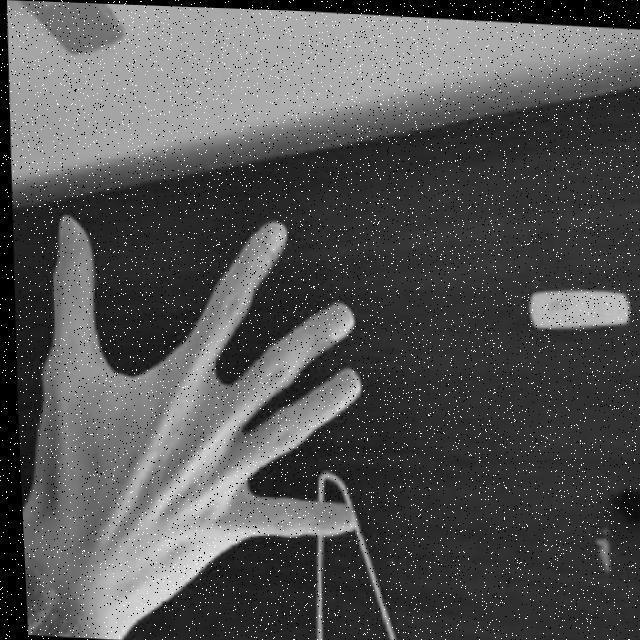no-gloves: (8, 208, 372, 623)
